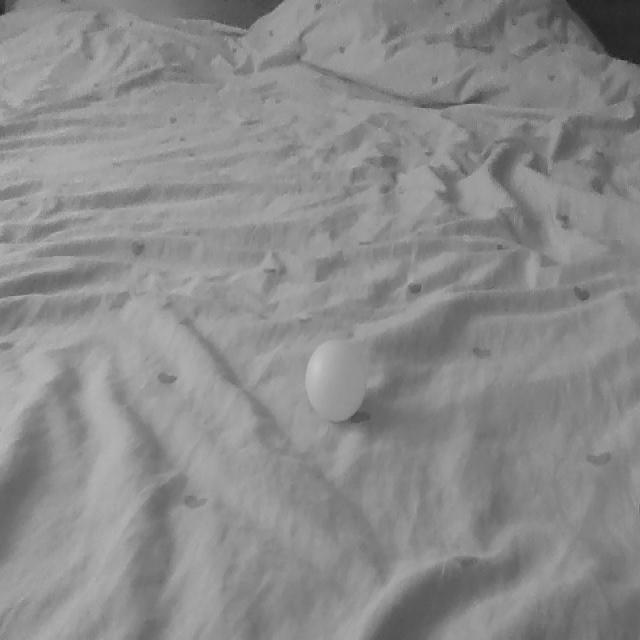ping-pong-ball: (306, 339, 370, 421)
